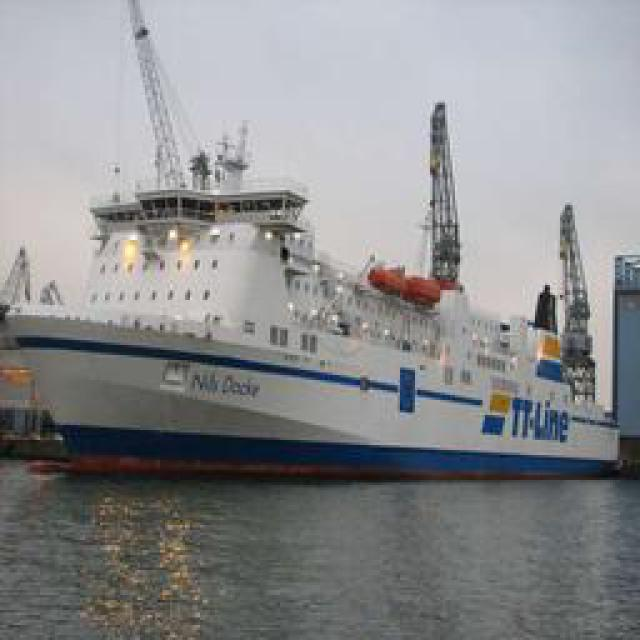Ship: (18, 31, 633, 469)
